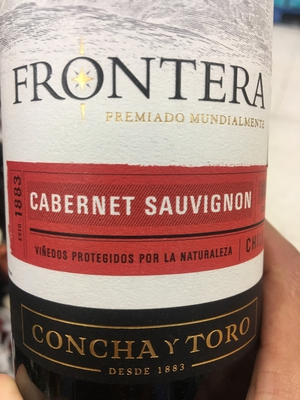frontera cabernet sauvignon: (2, 1, 273, 392)
